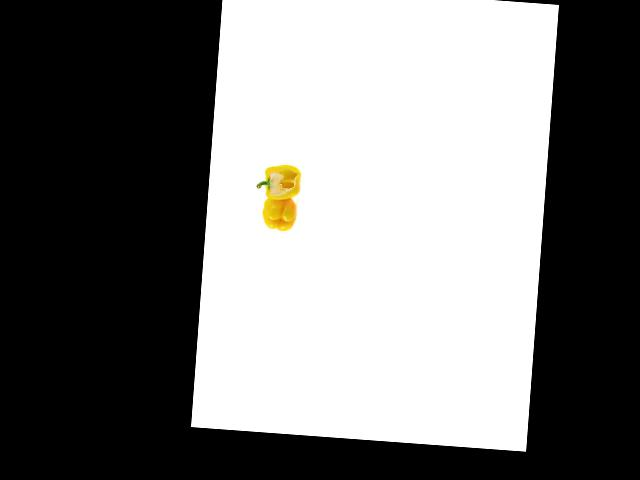bell_pepper: (254, 160, 310, 208)
